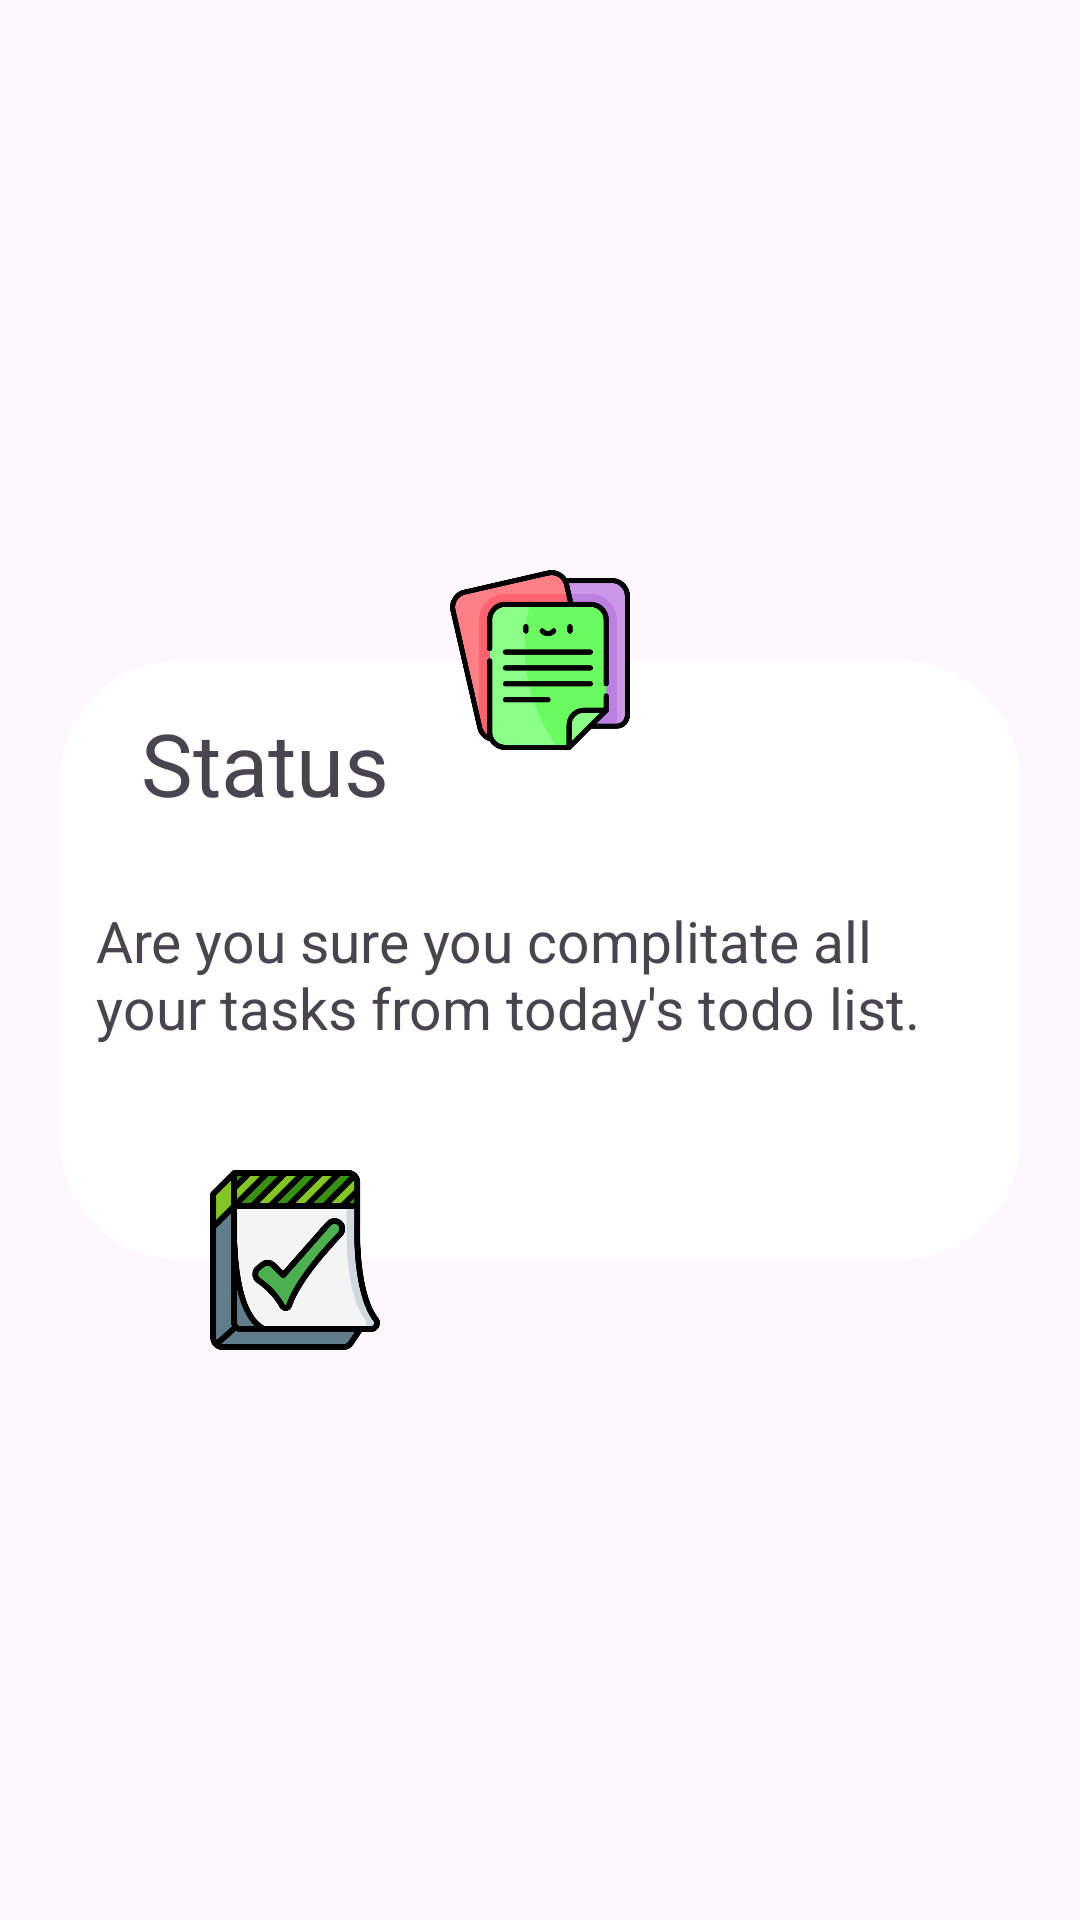

Icons on this 1080 x 1920 Android screen, each with the point to tap as [x,y]:
done: [295,1260]
notes: [540,660]
